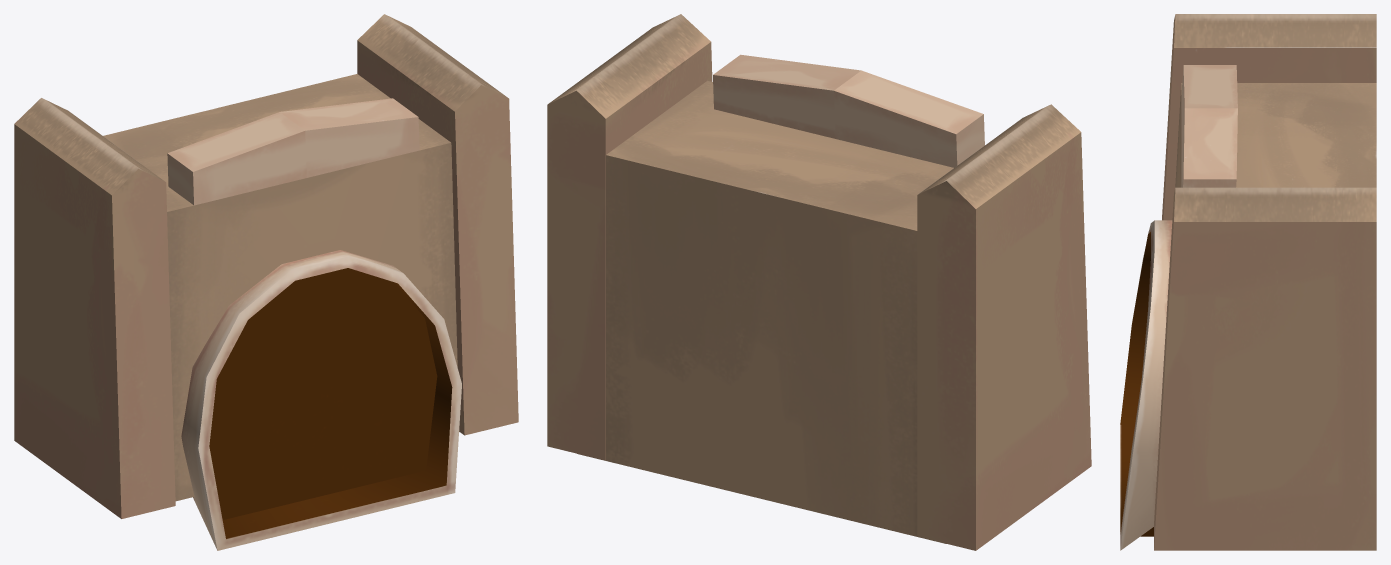
The model's file is Tunel.fbx.
3 views of the same model, side by side, from view 1: azimuth 30°, elevation 25°; view 2: azimuth 150°, elevation 25°; view 3: azimuth 270°, elevation 25° (orthographic). The views are drawn at different scales.
Parts seen in each view (by area): view 1: Tunel; view 2: Tunel; view 3: Tunel.
Boxes of the visible parts, left/top/right/bottom form: Tunel: left=14, top=14, right=518, bottom=550; Tunel: left=547, top=14, right=1091, bottom=550; Tunel: left=1120, top=14, right=1376, bottom=550.
Size of the model in its own units: 641 by 579 by 345.
